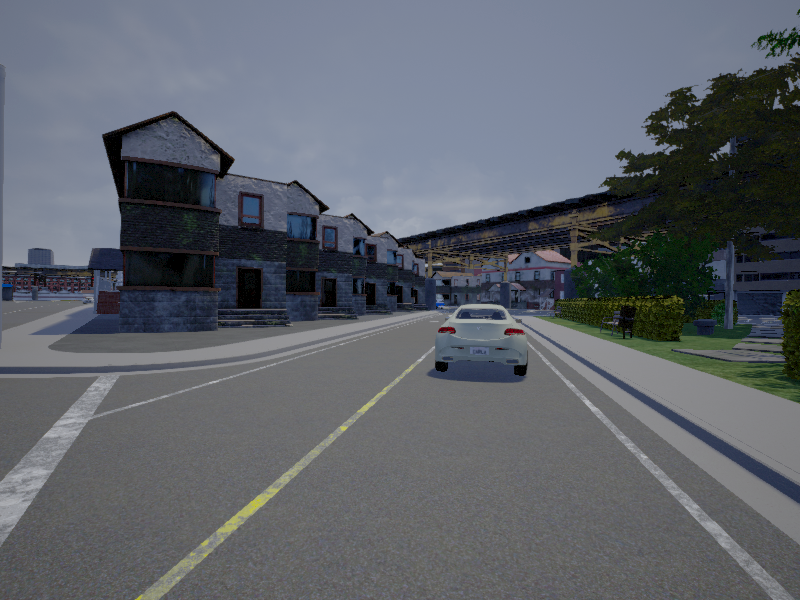Benign: (432, 303, 529, 382)
